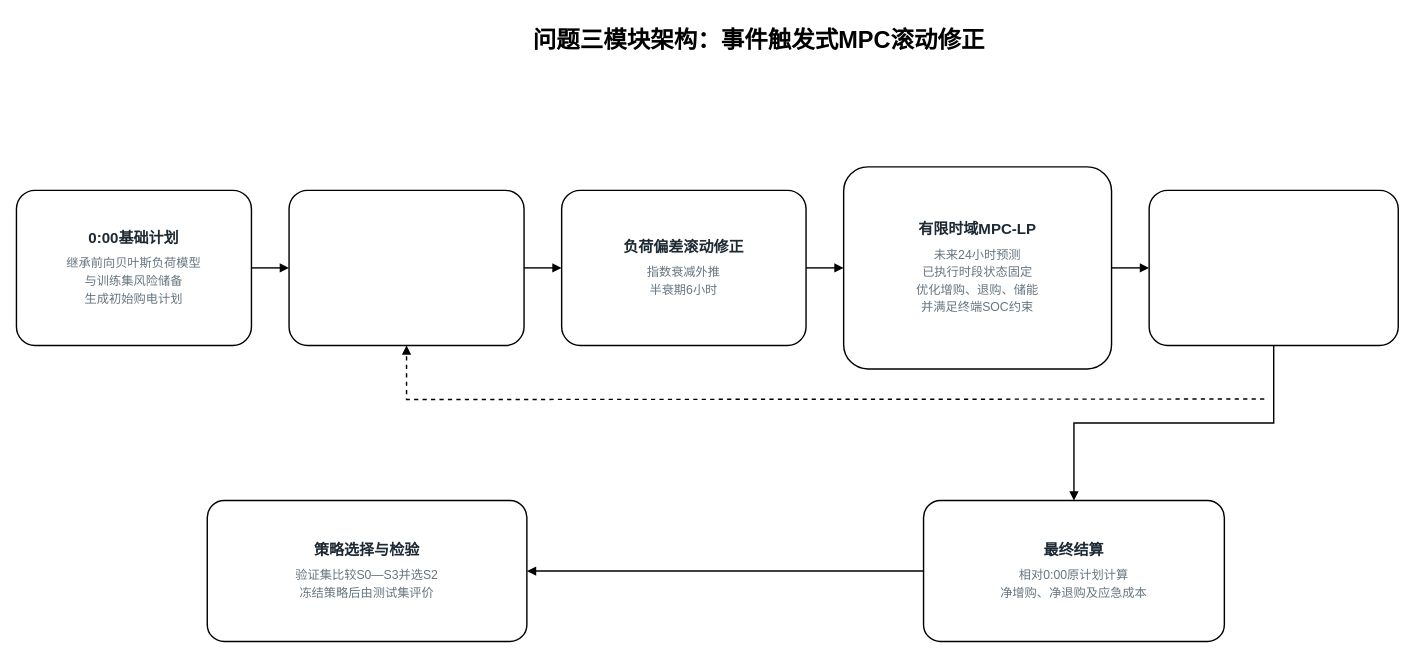
Image size: 1416x658. Some labels were removed from this diagram. Here are the shapes that lost their labels. From the top down, the centre of each, then its label:
At pixel 406 267: "实时观测 6:00／12:00／18:00 获得已发生负荷偏差".
At pixel 1273 267: "实施当前阶段 只执行至下一触发点 保留剩余计划".
